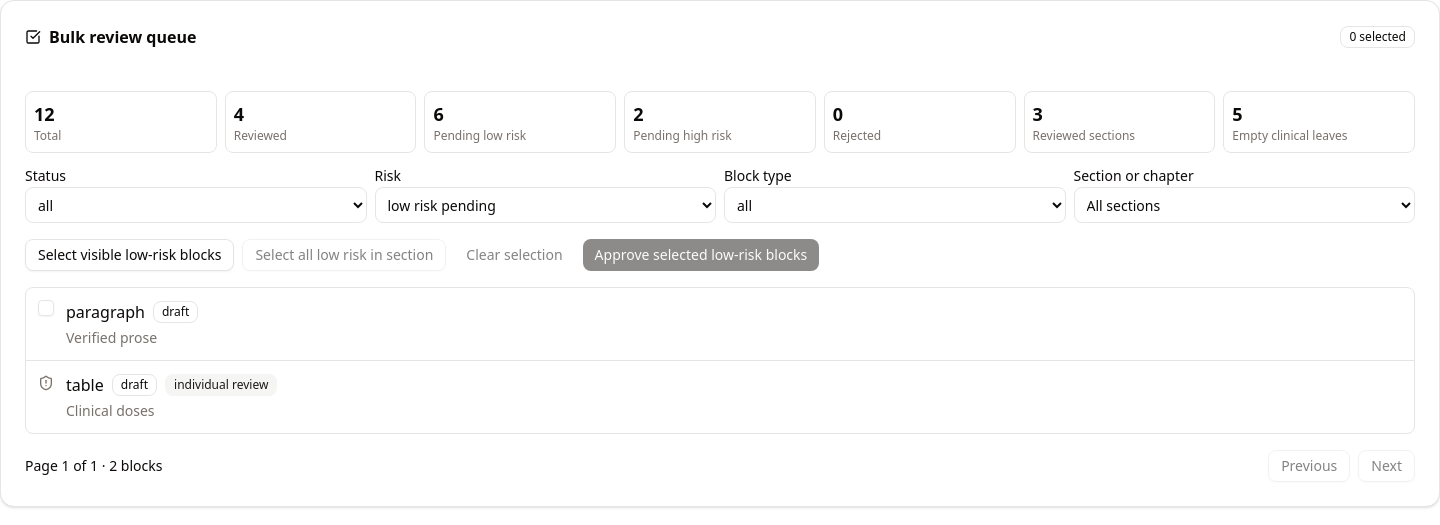
GuidelineBulkReviewPanel › clears the incompatible low-risk filter when figures are selected
Check: the text "Pending low risk" is shown, box [433,127,526,144]
Select "figure" in the dropdown labelled "Block type". click: (895, 205)
box: [724,187,1066,223]
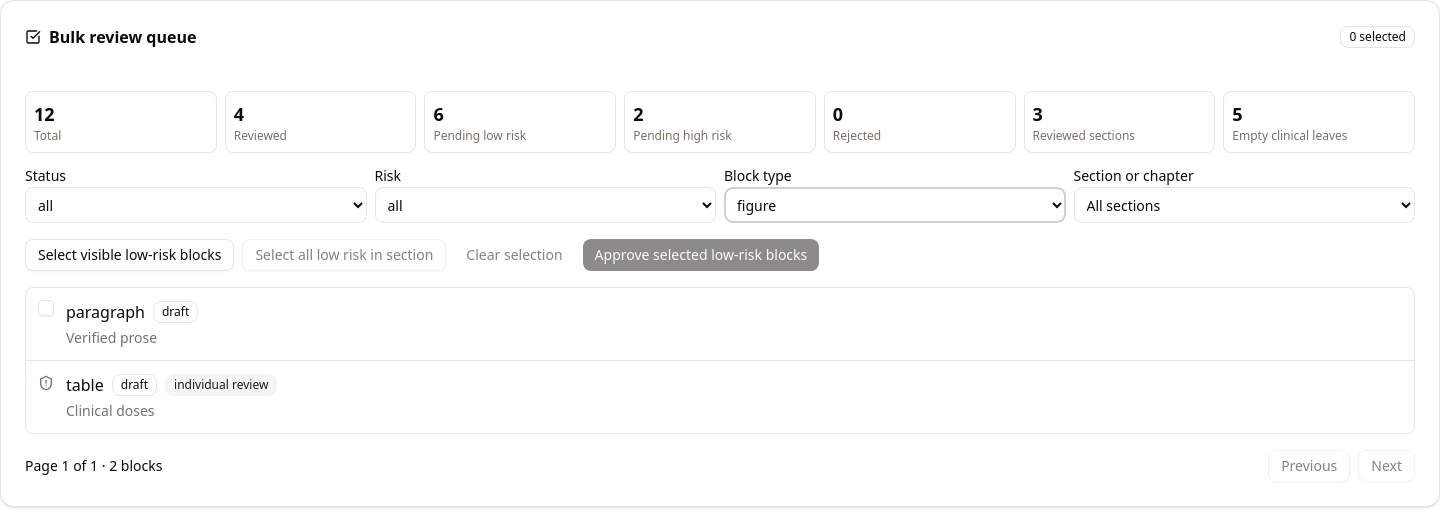
Check: the dropdown labelled "Risk" shows "all", box [374,187,716,223]
